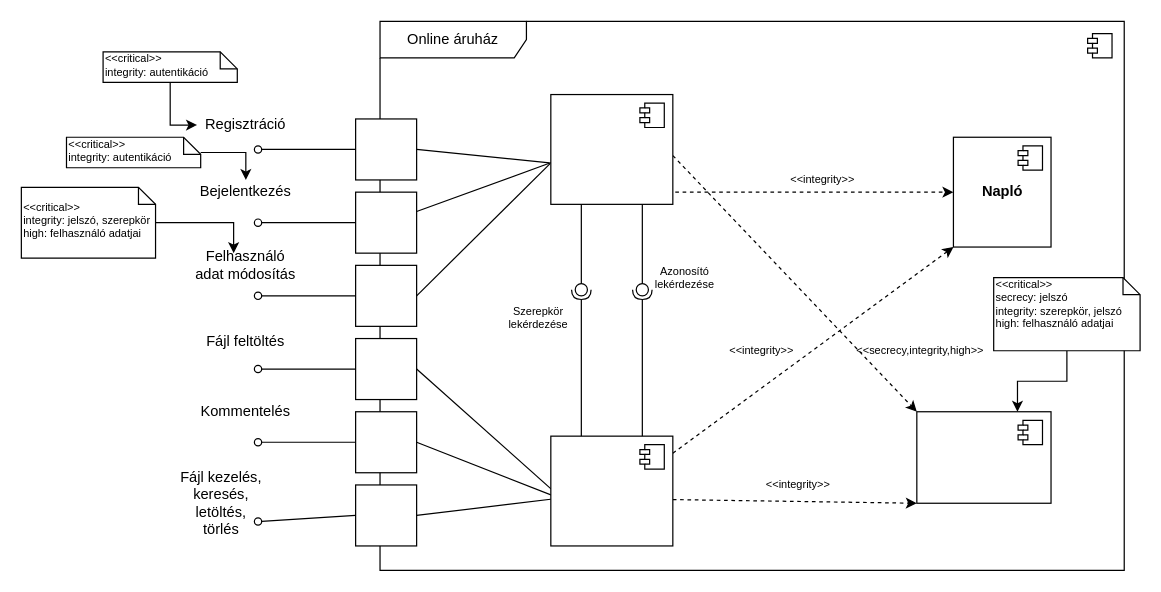
The diagram is 1161 pixels wide and 592 high, and some of its shapes have lost their labels. Each missing label, with the box of its shape:
Adatbázis: (916, 411, 1051, 503)
Felhasználó kezelő: (550, 93, 673, 204)
Fájl kezelő: (550, 435, 673, 546)
